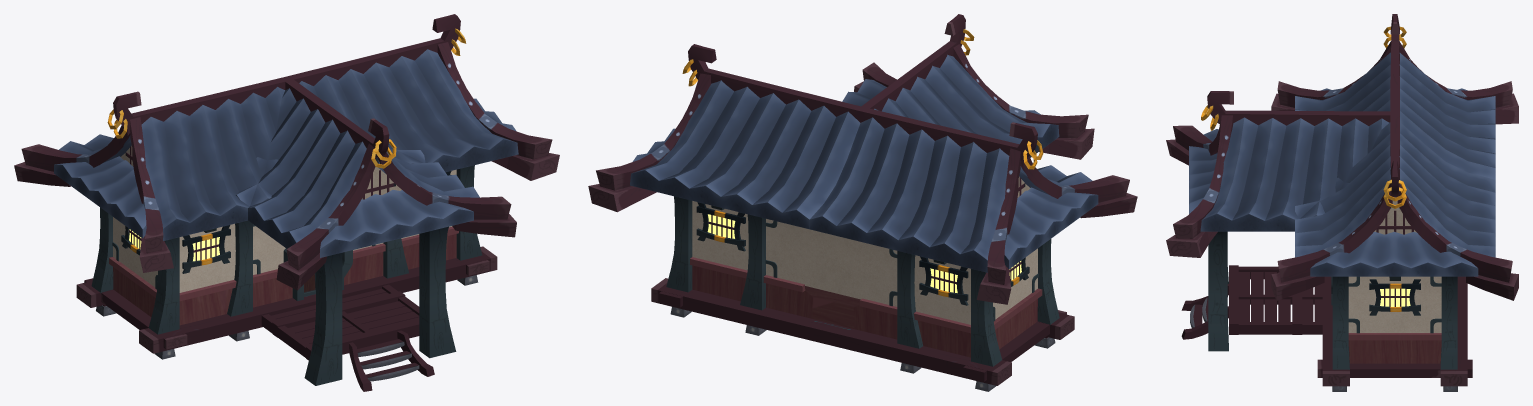
Rendered from korean_house.glb.
The picture shows the model from 3 angles, left to right: view 1: azimuth 30°, elevation 25°; view 2: azimuth 150°, elevation 25°; view 3: azimuth 270°, elevation 25°; orthographic projection. The views are drawn at different scales.
Visible parts, largest first — view 1: stl01_low, wdl02_low, wdf_low, stl02_low, wdl01_low, body02_low, wd01_low (×2), wdst_low, body_low, stairs_low, wd05_low, st04_low (+5 smaller); view 2: stl01_low, body_low, wdl02_low, body02_low, wd01_low (×2), wdf_low, wdl01_low, stl02_low, wd05_low, wd04_low, wd02_low, st01_low (+1 smaller); view 3: stl01_low, wdl02_low, stl02_low, wdf_low, wdst_low, body_low, wdl01_low, wd01_low (×2), body02_low, wd05_low, stairs_low, wd03_low (+4 smaller).
Boxes of the visible parts, x1=… form: stl01_low: x1=59, y1=49, x2=518, y2=248; wdl02_low: x1=14, y1=42, x2=559, y2=290; wdf_low: x1=91, y1=165, x2=482, y2=385; stl02_low: x1=54, y1=98, x2=516, y2=257; wdl01_low: x1=113, y1=14, x2=460, y2=157; body02_low: x1=109, y1=226, x2=458, y2=325; wd01_low (×2): x1=76, y1=174, x2=497, y2=353; wdst_low: x1=261, y1=284, x2=419, y2=360; body_low: x1=113, y1=145, x2=456, y2=292; stairs_low: x1=349, y1=330, x2=434, y2=391; wd05_low: x1=84, y1=259, x2=489, y2=349; st04_low: x1=357, y1=341, x2=419, y2=381; stl01_low: x1=630, y1=54, x2=1092, y2=272; body_low: x1=692, y1=176, x2=1037, y2=324; wdl02_low: x1=588, y1=44, x2=1137, y2=304; body02_low: x1=690, y1=257, x2=1042, y2=357; wd01_low (×2): x1=651, y1=205, x2=1074, y2=385; wdf_low: x1=666, y1=196, x2=1059, y2=366; wdl01_low: x1=688, y1=14, x2=1037, y2=160; stl02_low: x1=632, y1=110, x2=1098, y2=268; wd05_low: x1=659, y1=291, x2=1066, y2=381; wd04_low: x1=707, y1=214, x2=1021, y2=292; wd02_low: x1=697, y1=202, x2=1028, y2=305; st01_low: x1=670, y1=307, x2=1055, y2=391; stl01_low: x1=1200, y1=52, x2=1495, y2=257; wdl02_low: x1=1166, y1=41, x2=1518, y2=300; stl02_low: x1=1189, y1=88, x2=1478, y2=276; wdf_low: x1=1208, y1=231, x2=1457, y2=369; wdst_low: x1=1229, y1=265, x2=1322, y2=334; body_low: x1=1348, y1=197, x2=1441, y2=332; wdl01_low: x1=1207, y1=14, x2=1399, y2=197; wd01_low (×2): x1=1322, y1=276, x2=1467, y2=386; body02_low: x1=1348, y1=333, x2=1441, y2=363; wd05_low: x1=1317, y1=359, x2=1472, y2=377; stairs_low: x1=1181, y1=284, x2=1228, y2=339; wd03_low: x1=1376, y1=210, x2=1413, y2=306.
Size of the model in its own units: 7.48 by 4.17 by 5.76.
Materials: 1 (1 with a texture image).
